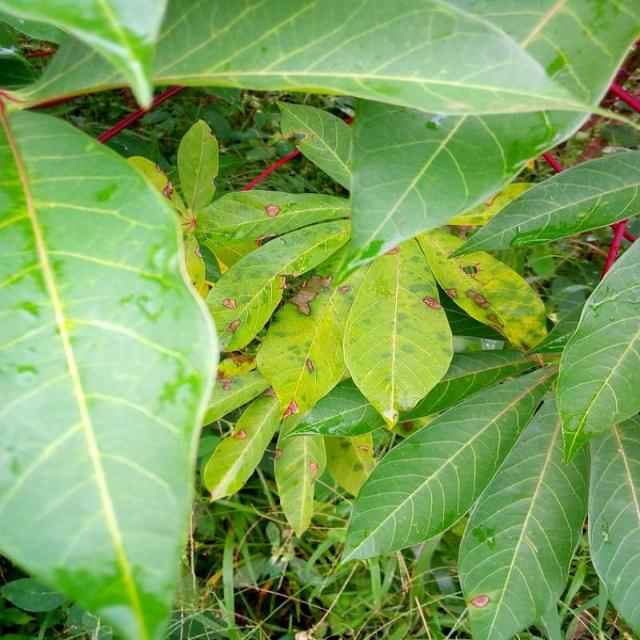cassava leaf: (2, 0, 639, 638), (1, 105, 221, 638), (458, 387, 591, 638), (343, 232, 455, 429)
